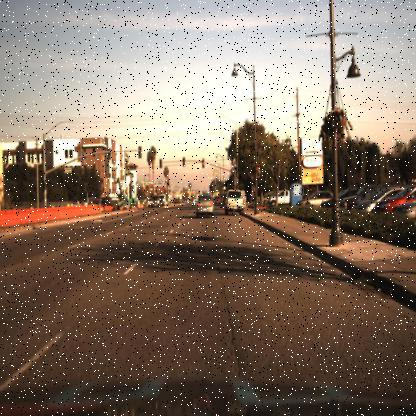car: (335, 184, 378, 209), (320, 187, 360, 211), (296, 186, 338, 208), (223, 186, 247, 219), (220, 187, 246, 217), (268, 182, 291, 209), (194, 193, 216, 220), (266, 182, 290, 206), (294, 190, 320, 212), (340, 192, 358, 213), (323, 196, 342, 208), (150, 194, 162, 210)
trafficLight-Yellow: (180, 156, 188, 169)
